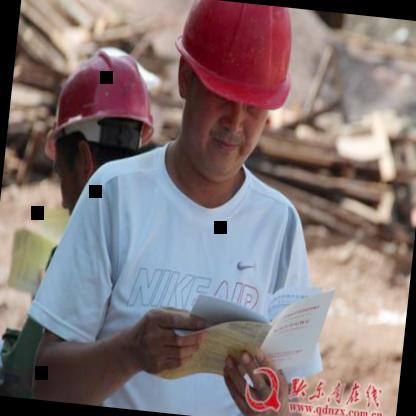helmet: (141, 0, 313, 198), (36, 26, 164, 200)
